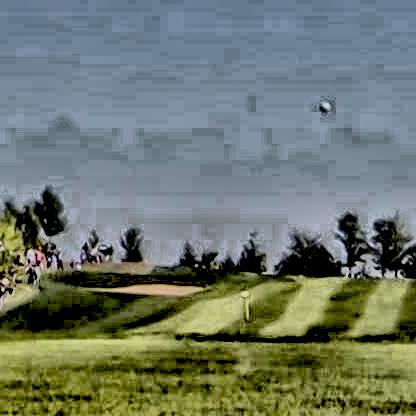golfball: (315, 99, 329, 111)
